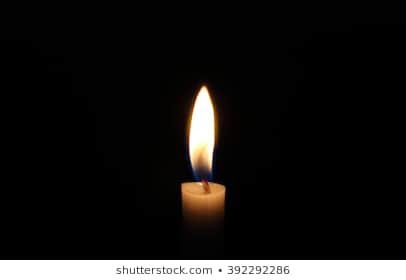fire: (185, 82, 216, 180)
